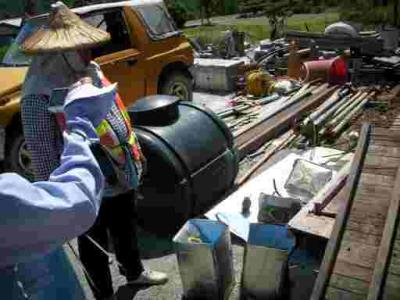bucket: (126, 92, 243, 221), (167, 215, 234, 294), (239, 220, 296, 295)
